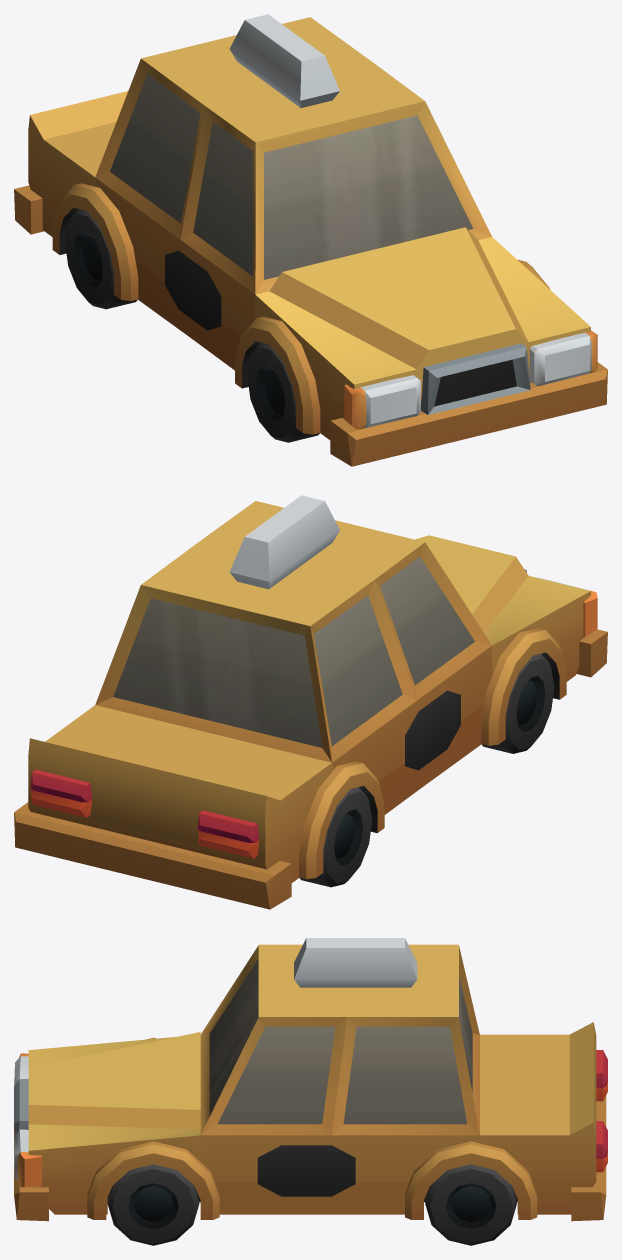
File: taxi.glb
The picture shows the model from 3 angles, top to bottom: view 1: azimuth 30°, elevation 25°; view 2: azimuth 150°, elevation 25°; view 3: azimuth 270°, elevation 25°; orthographic projection. The views are drawn at different scales.
Parts seen in each view (by area): view 1: car_taxi; view 2: car_taxi; view 3: car_taxi.
Part boxes in pixels (bbox=[...]): car_taxi: bbox=[14, 14, 607, 466]; car_taxi: bbox=[14, 495, 607, 909]; car_taxi: bbox=[14, 938, 607, 1245].
Size of the model in its own units: 0.419 by 0.4345 by 0.9381.
1 material, 1 textured.
